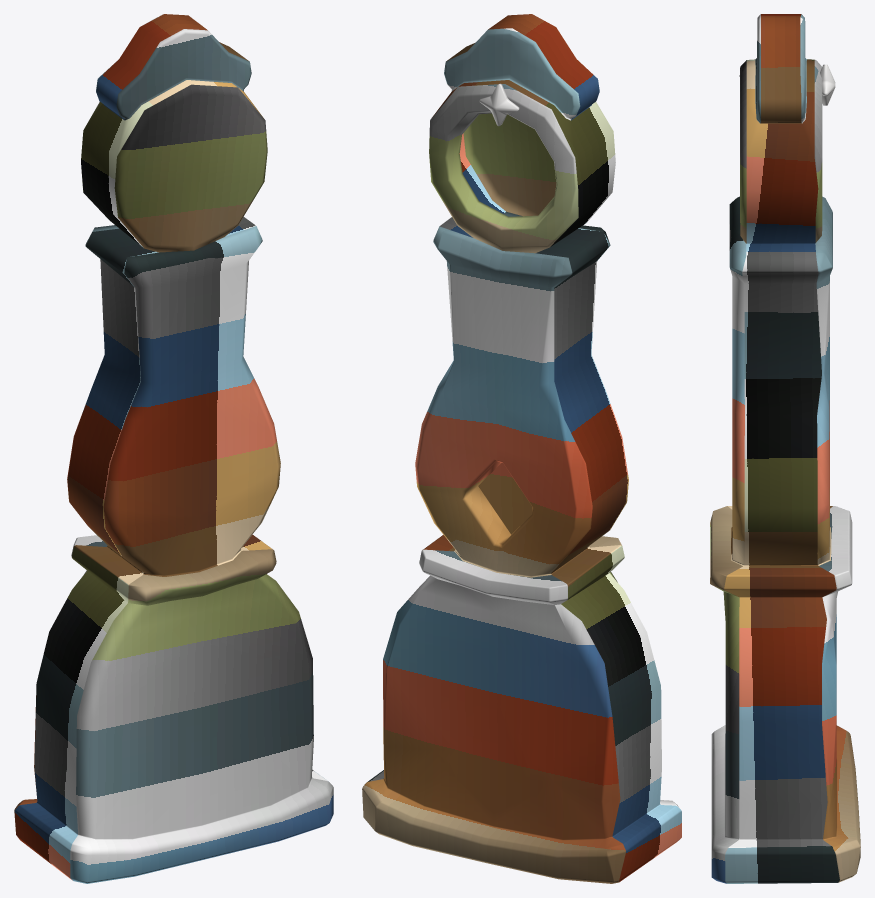
Rendered from P_AP24Clock.glb.
3 renders of one model, left to right at view 1: azimuth 30°, elevation 25°; view 2: azimuth 150°, elevation 25°; view 3: azimuth 270°, elevation 25°, orthographic.
Parts seen in each view (by area): view 1: P_AP24Clock; view 2: P_AP24Clock; view 3: P_AP24Clock.
Boxes of the visible parts, bbox=[...] form: P_AP24Clock: bbox=[14, 14, 333, 883]; P_AP24Clock: bbox=[362, 14, 681, 883]; P_AP24Clock: bbox=[710, 14, 860, 883].
Bounding box in the file's own units: 0.7809 × 2.31 × 0.3895.
Materials: 1 (1 with a texture image).
